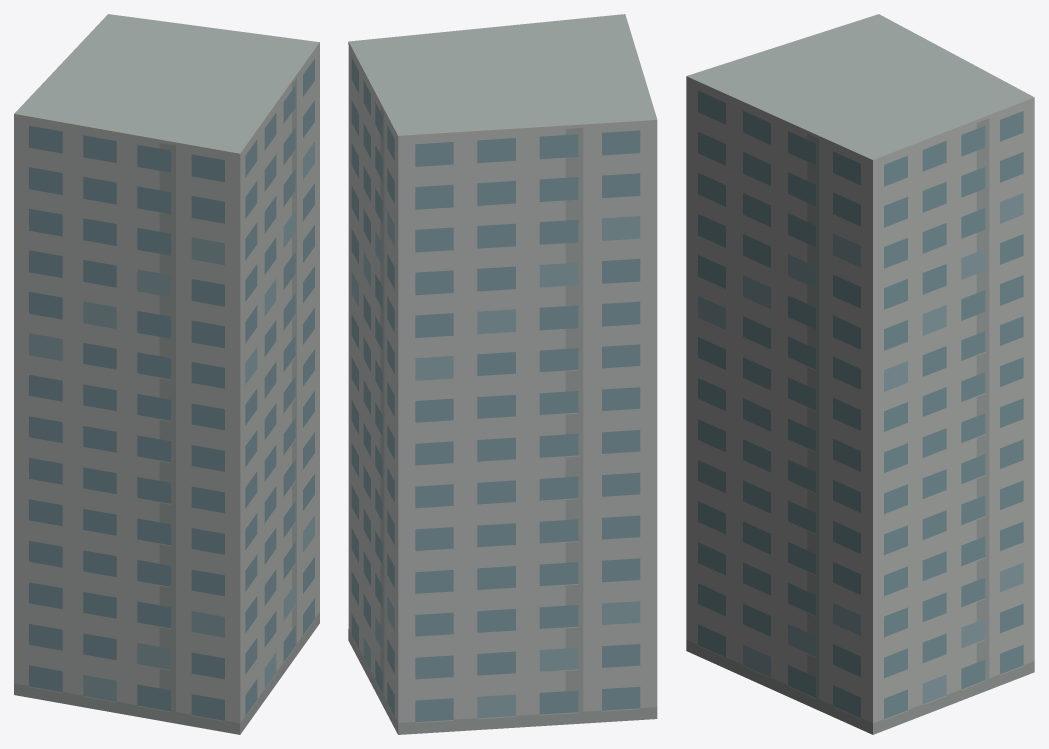
Rendered from residential-6445f4b2-f67e-4ea6-b6fd-844bd2a4e096.glb.
3 renders of one model, left to right at view 1: azimuth 30°, elevation 25°; view 2: azimuth 150°, elevation 25°; view 3: azimuth 270°, elevation 25°, orthographic. The views are drawn at different scales.
Parts seen in each view (by area): view 1: residential-6445f4b2-f67e-4ea6-b6fd-844bd2a4e096.tmp; view 2: residential-6445f4b2-f67e-4ea6-b6fd-844bd2a4e096.tmp; view 3: residential-6445f4b2-f67e-4ea6-b6fd-844bd2a4e096.tmp.
Part boxes in pixels (x1,y1,x2,y2): residential-6445f4b2-f67e-4ea6-b6fd-844bd2a4e096.tmp: (14,14,319,734); residential-6445f4b2-f67e-4ea6-b6fd-844bd2a4e096.tmp: (348,14,657,734); residential-6445f4b2-f67e-4ea6-b6fd-844bd2a4e096.tmp: (686,14,1034,734).
Size of the model in its own units: 23.99 by 44 by 24.19.
